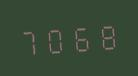eight: (93, 18, 117, 52)
seven: (18, 23, 42, 57)
six: (68, 20, 92, 54)
zero: (43, 21, 67, 56)
